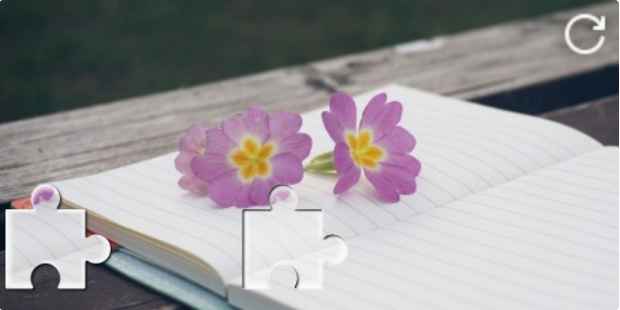target: (242, 185, 347, 290)
